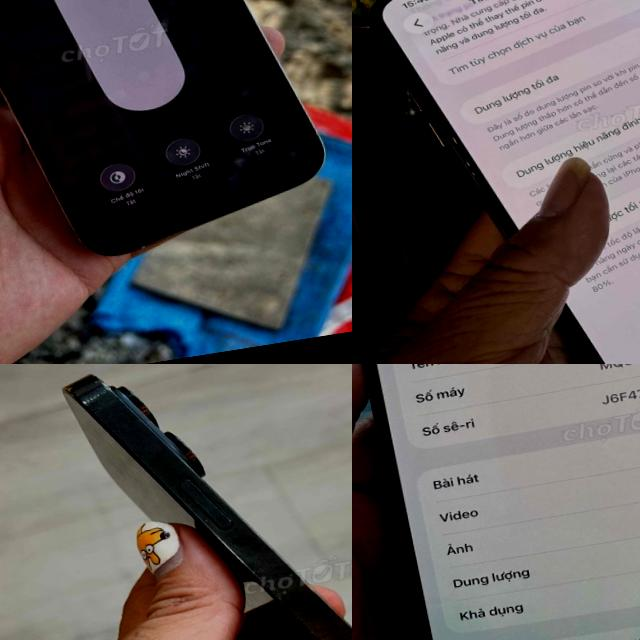scratch: (174, 470, 246, 544), (293, 604, 326, 640), (246, 556, 270, 582), (86, 373, 108, 395)
